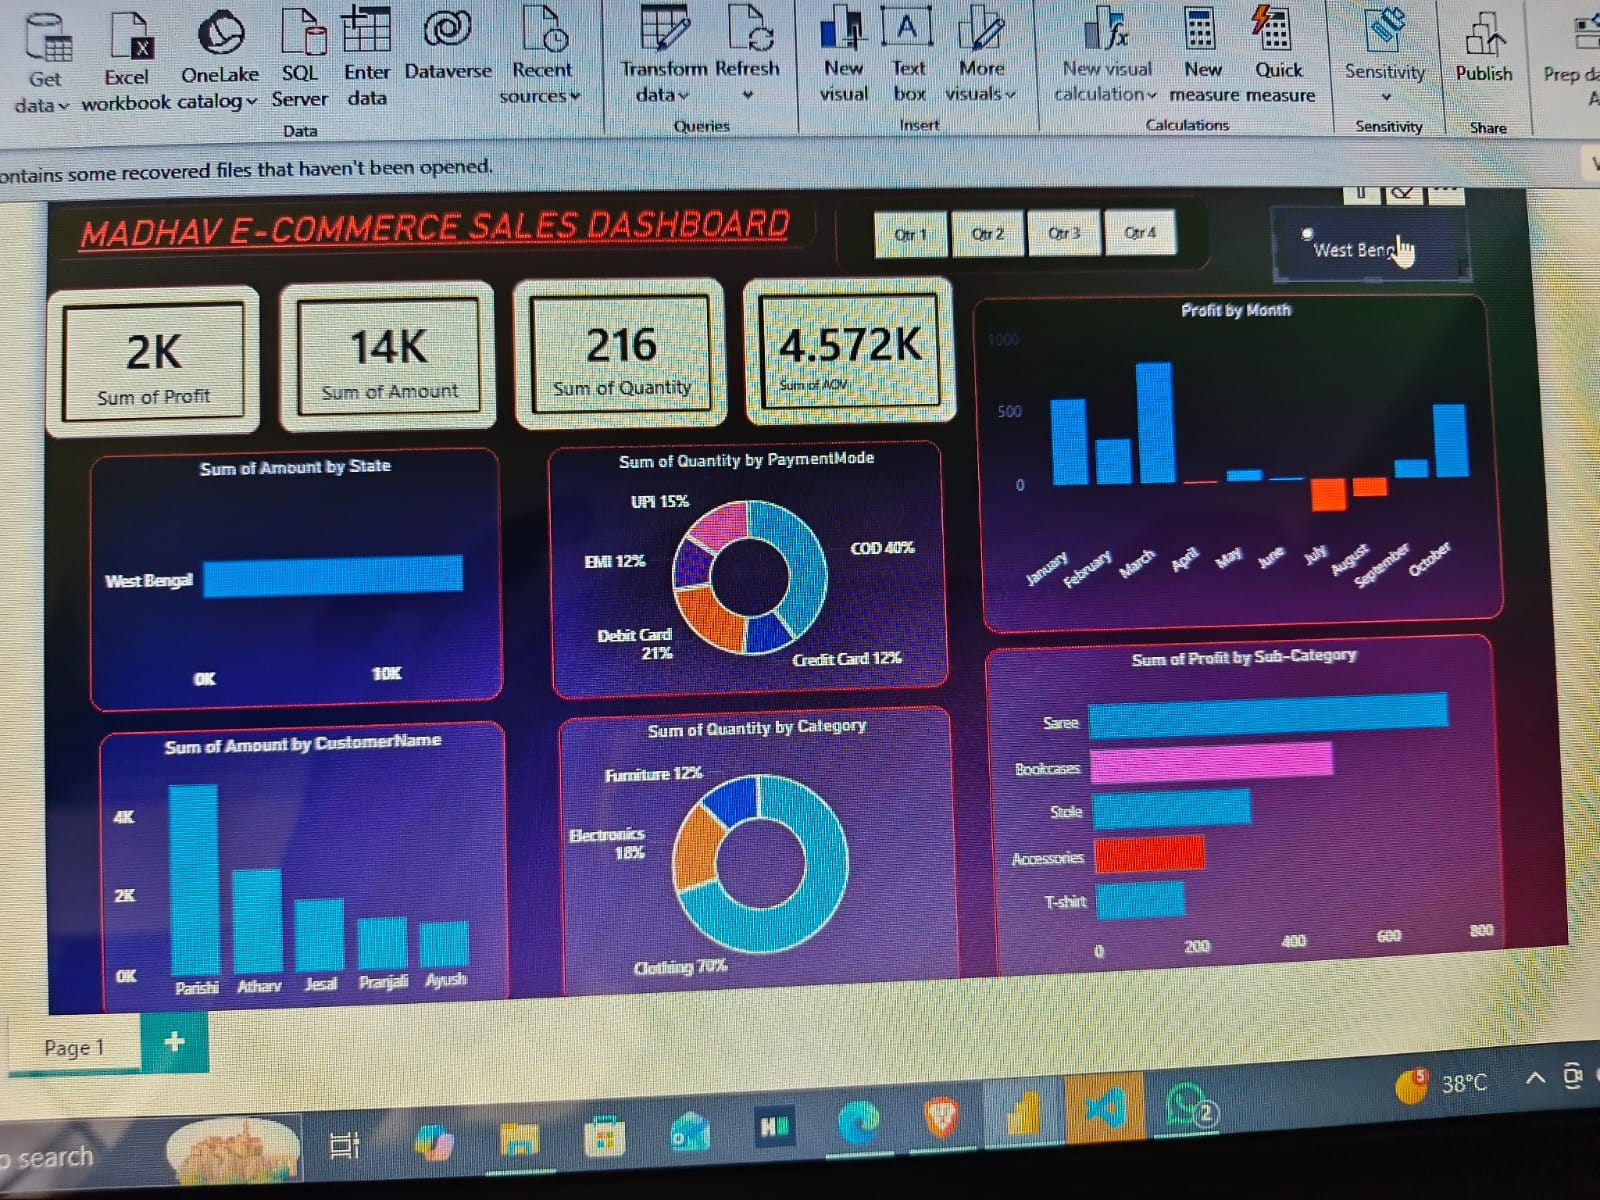

The page's visual inventory and layout, read from the dashboard file:
{"tool":"powerbi","page":{"name":"Page 1","canvas":[1280,720],"ordinal":0},"visuals":[{"type":"textbox","title":"MADHAV E-COMMERCE SALES DASHBOARD ","box":[0,38.3,641.7,45],"z":0},{"type":"clusteredColumnChart","title":"Profit by Month","fields":{"Category":["Orders.Order Date.Variation.Date Hierarchy.Month"],"Y":["Sum(Details.Profit)"]},"box":[773.3,128.3,460,286.7],"z":1000},{"type":"barChart","fields":{"Category":["Details.Sub-Category"],"Y":["Sum(Details.Profit)"]},"box":[773.3,428.3,446.7,280],"z":2000},{"type":"donutChart","fields":{"Category":["Details.Category"],"Y":["Sum(Details.Quantity)"]},"box":[415,475,326.7,235],"z":3000},{"type":"donutChart","fields":{"Y":["Sum(Details.Quantity)"],"Series":["Details.PaymentMode"]},"box":[411.1,248.6,330.6,209.7],"z":4000},{"type":"cardVisual","fields":{"Data":["Sum(Details.Amount)"]},"box":[193.3,106.7,178.3,126.7],"z":5000},{"type":"cardVisual","fields":{"Data":["Sum(Details.Quantity)"]},"box":[385,106.7,178.3,128.3],"z":6000},{"type":"cardVisual","fields":{"Data":["Sum(Details.Profit)"]},"box":[0,106.7,178.3,126.7],"z":7000},{"type":"cardVisual","fields":{"Data":["Sum(Details.AOD)"]},"box":[576.7,108.3,181.7,126.7],"z":8000},{"type":"barChart","fields":{"Category":["Orders.State"],"Y":["Sum(Details.Amount)"]},"box":[38.3,248.3,333.3,210],"z":9000},{"type":"columnChart","fields":{"Y":["Sum(Details.Amount)"],"Category":["Orders.CustomerName"]},"box":[45,475,326.7,233.3],"z":10000},{"type":"slicer","fields":{"Values":["Orders.Order Date.Variation.Date Hierarchy.Quarter"]},"box":[658.3,38.9,326.4,66.7],"z":11000},{"type":"advancedSlicerVisual","fields":{"Values":["Orders.State"]},"box":[1038.9,48.6,181.9,68.1],"z":11001}]}

Visuals, with their boxes in screenshot pixels (x1, y1, x2, y2):
"MADHAV E-COMMERCE SALES DASHBOARD " textbox: [0, 186, 808, 244]
"Profit by Month" clusteredColumnChart: [976, 301, 1564, 668]
barChart - Details.Sub-Category x Sum(Details.Profit): [976, 685, 1547, 1043]
donutChart - Details.Category x Sum(Details.Quantity): [518, 745, 935, 1045]
donutChart - Sum(Details.Quantity) x Details.PaymentMode: [513, 455, 935, 723]
cardVisual - Sum(Details.Amount): [235, 274, 462, 436]
cardVisual - Sum(Details.Quantity): [480, 274, 707, 438]
cardVisual - Sum(Details.Profit): [0, 274, 215, 436]
cardVisual - Sum(Details.AOD): [725, 276, 957, 438]
barChart - Orders.State x Sum(Details.Amount): [36, 455, 462, 723]
columnChart - Sum(Details.Amount) x Orders.CustomerName: [45, 745, 463, 1043]
slicer - Orders.Order Date.Variation.Date Hierarchy.Quarter: [829, 187, 1246, 272]
advancedSlicerVisual - Orders.State: [1315, 200, 1548, 287]
